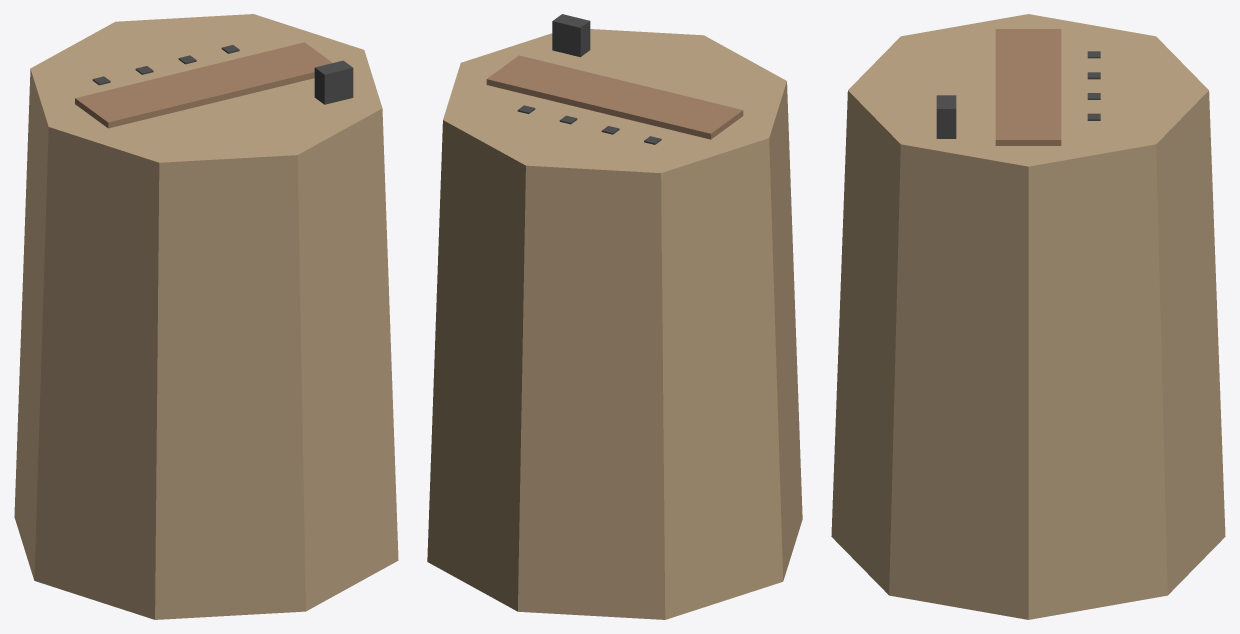
Rendered from prop-punch-block-bt1.fbx.
3 views of the same model, side by side, from view 1: azimuth 30°, elevation 25°; view 2: azimuth 150°, elevation 25°; view 3: azimuth 270°, elevation 25° (orthographic). The views are drawn at different scales.
Parts seen in each view (by area): view 1: prop-punch-block-bt1; view 2: prop-punch-block-bt1; view 3: prop-punch-block-bt1.
Part boxes in pixels (box(x1,y1,x2,y2)): prop-punch-block-bt1: box(14, 14, 398, 619); prop-punch-block-bt1: box(427, 14, 802, 619); prop-punch-block-bt1: box(831, 14, 1225, 619).
Size of the model in its own units: 24 by 32 by 24.
